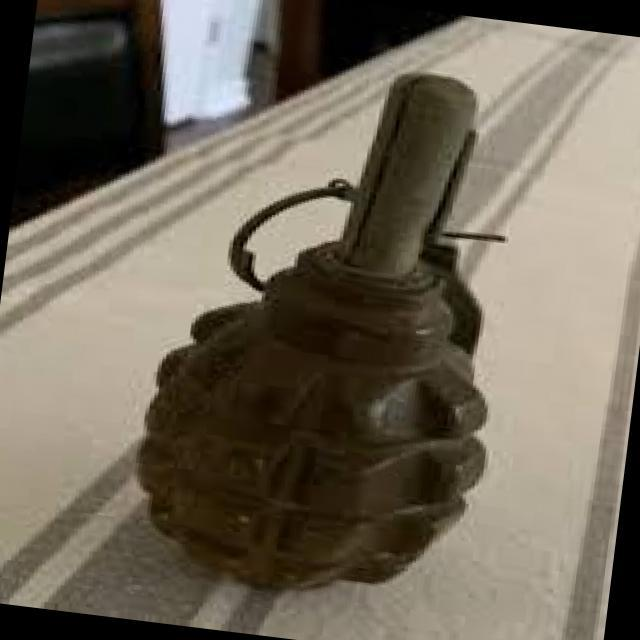grenade: (112, 24, 557, 612)
